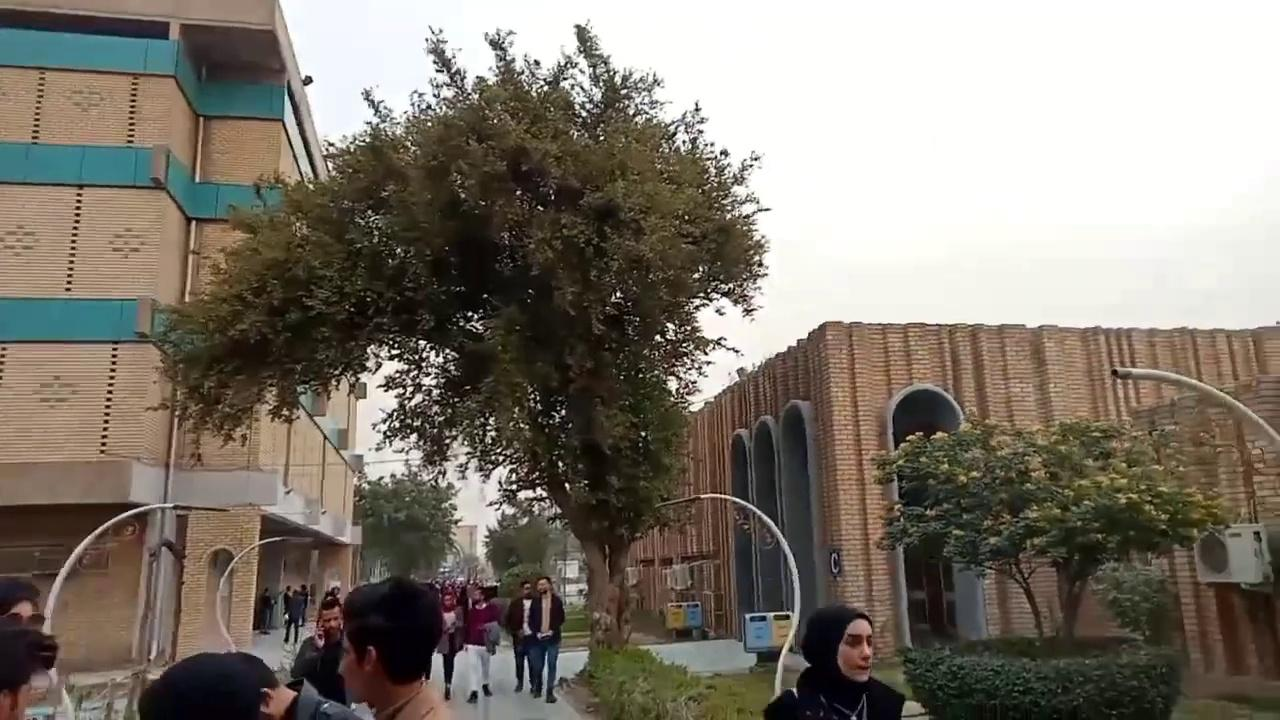person: (336, 575, 455, 719), (762, 603, 906, 719), (137, 650, 364, 719), (0, 577, 58, 719), (289, 599, 349, 706), (523, 575, 565, 703), (504, 580, 536, 693), (258, 587, 275, 634)
tree: (138, 18, 772, 669), (867, 407, 1228, 651), (899, 640, 1183, 718), (351, 467, 463, 581), (481, 509, 554, 581)
